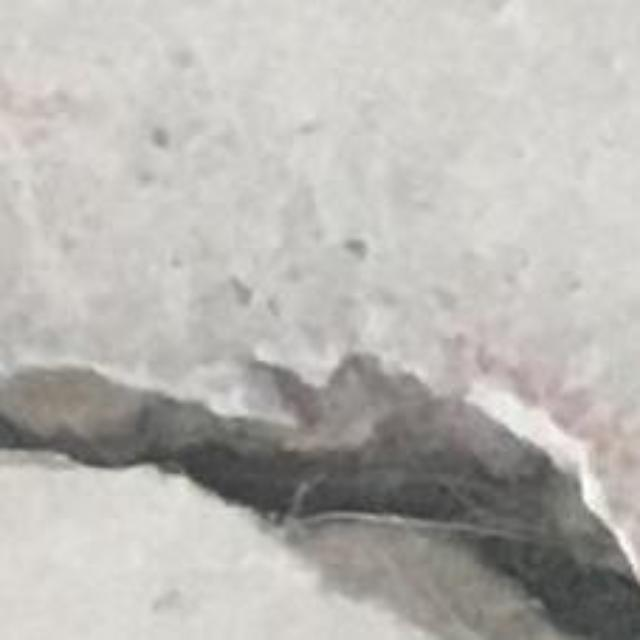crack: (0, 356, 639, 639)
